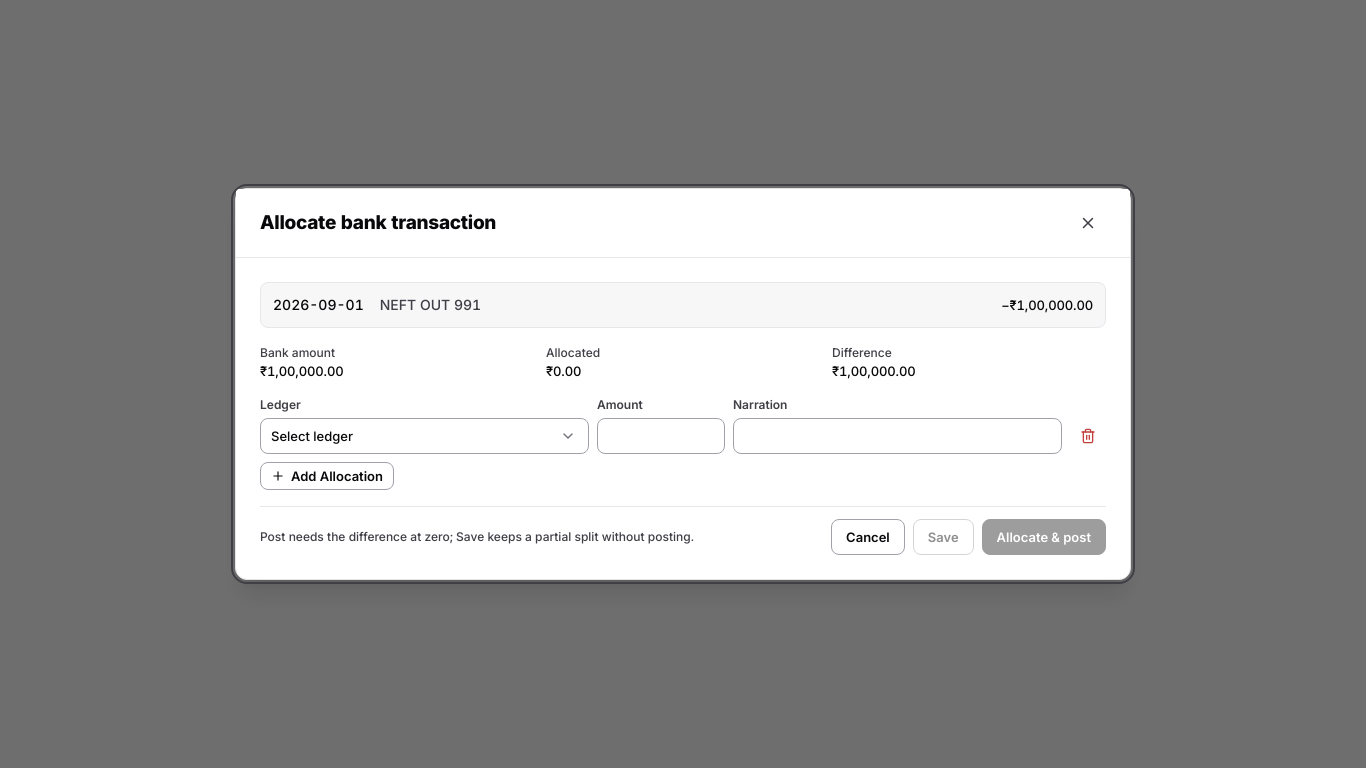
Test: a vendor row opens its bills in place › ticking a bill fills the row amount; part-payment is typed over it
Select "Vendor A A/c" in the dropdown labelled "Ledger". click: (424, 436)
box: [260,418,589,454]
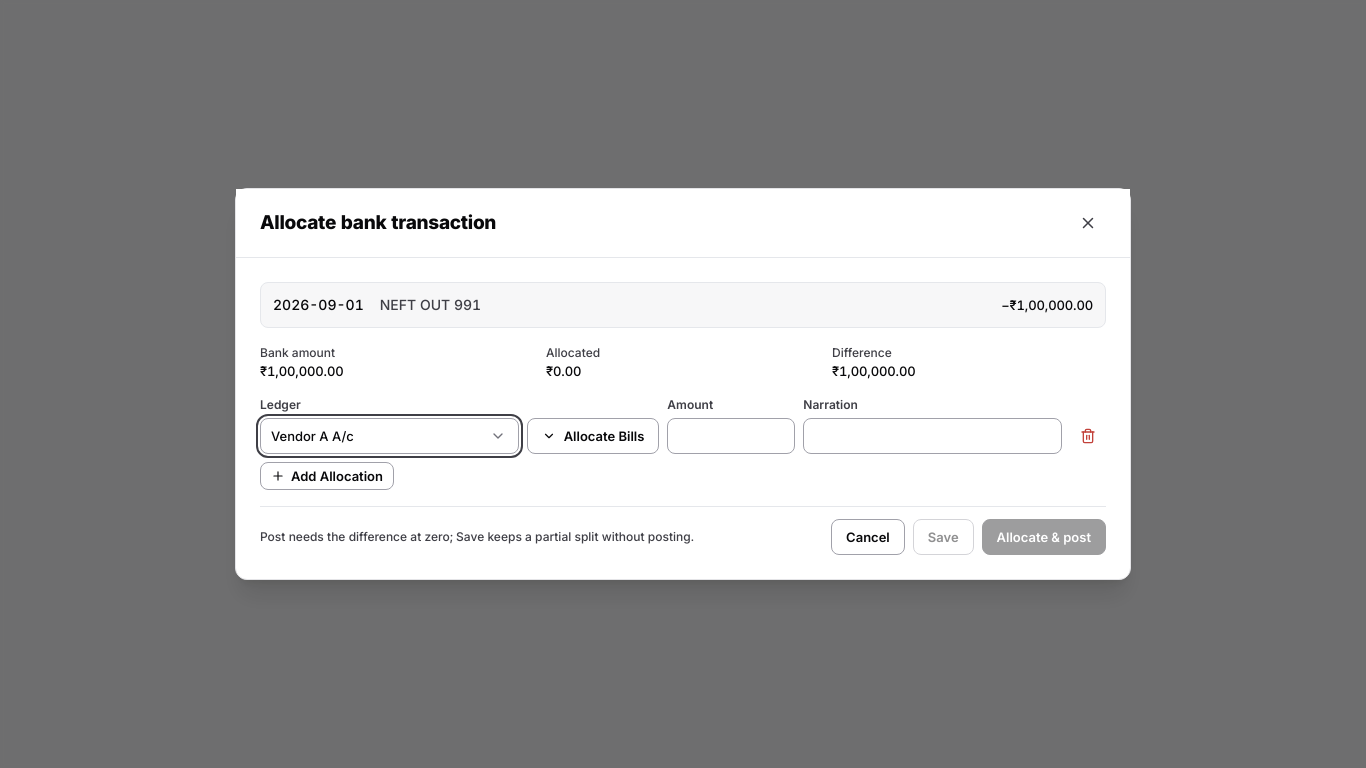
Click the button "Allocate Bills". click: (593, 436)
box: [527,418,659,454]
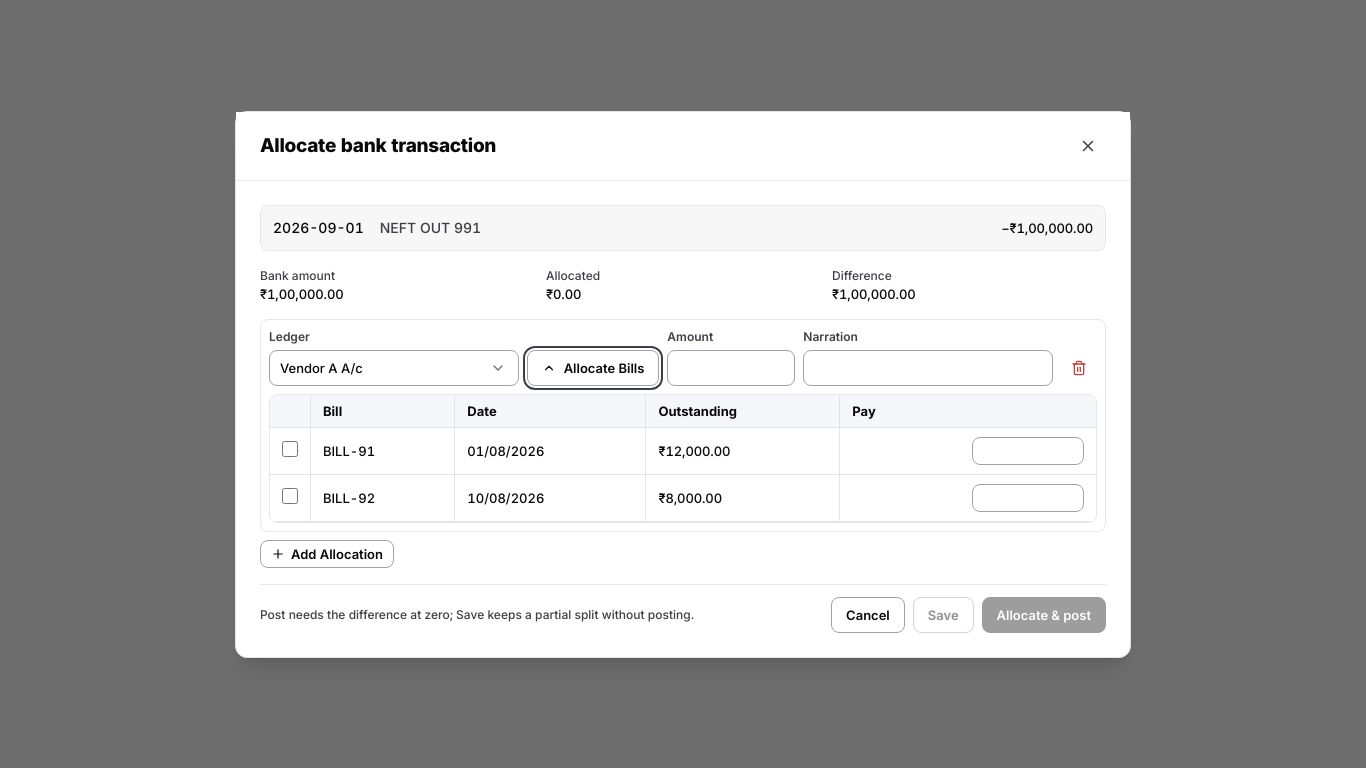
Click the checkbox named "Settle BILL-91". click: (290, 448)
box: [282,440,298,456]
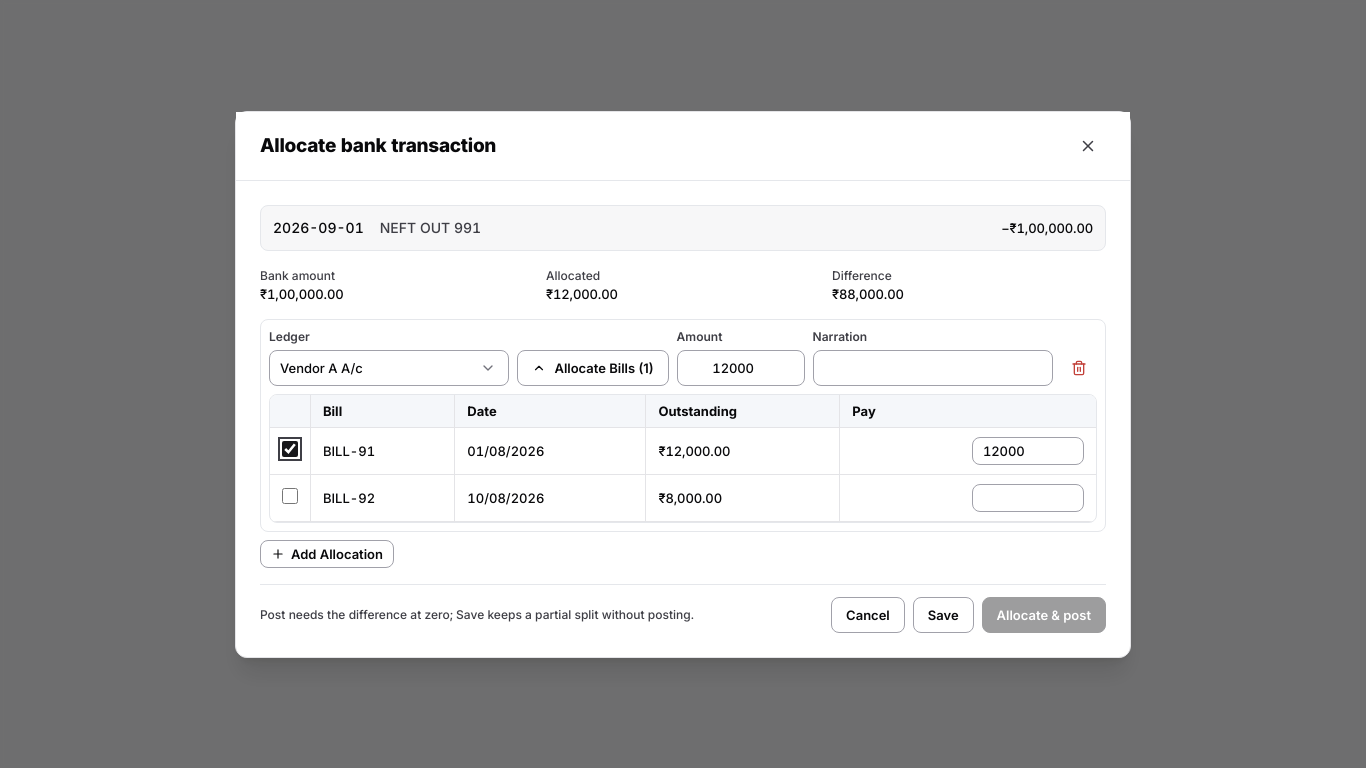
expect the number field labelled "Amount" holds "12000": met, box [677,350,805,386]
Replace the text in the number field named "Amount against BILL-91" with "5000". click: (1028, 450)
box: [972,436,1084,464]
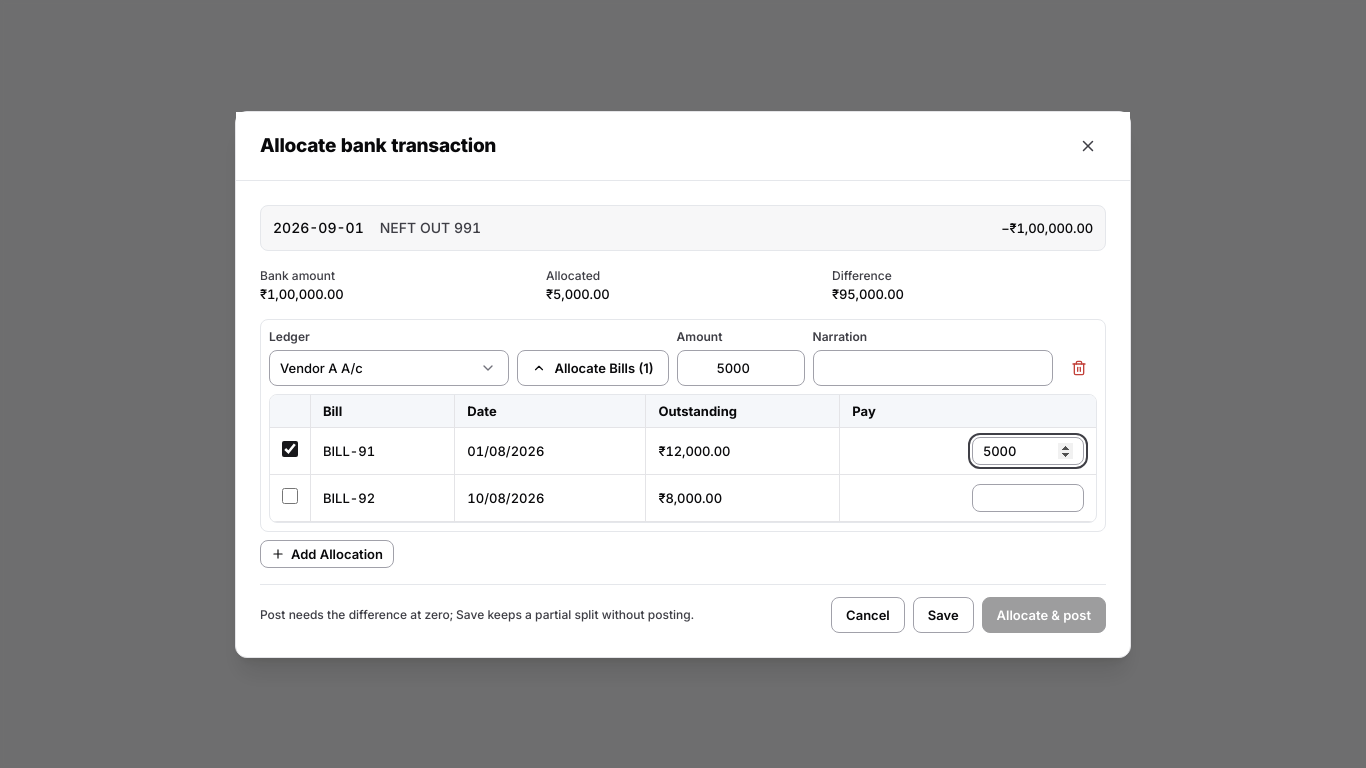
expect the number field labelled "Amount" holds "5000": met, box [677,350,805,386]
